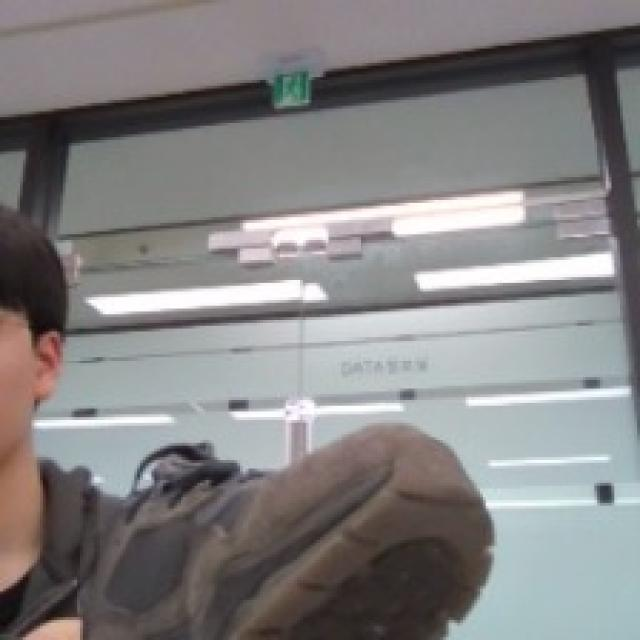shoe: (86, 410, 503, 640)
